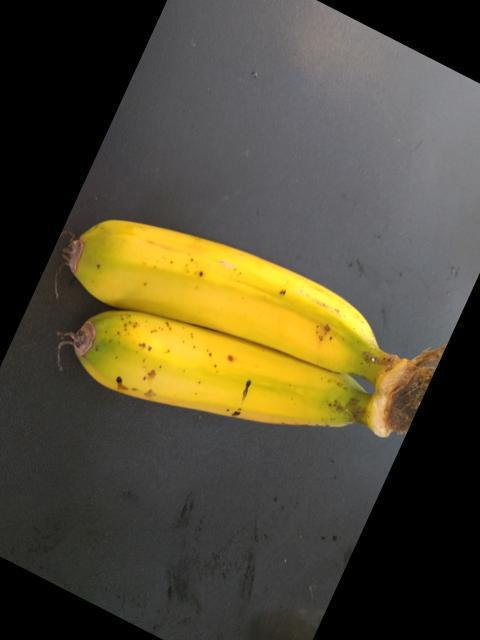freshripe: (67, 206, 407, 380)
ripe: (66, 315, 365, 444)
